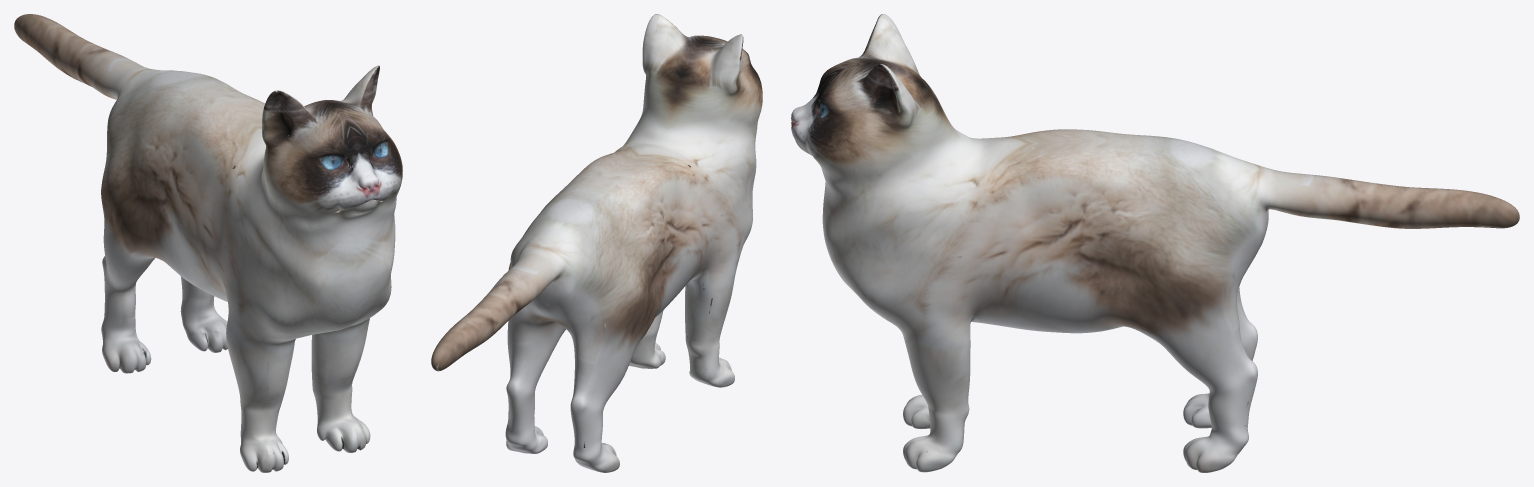
The model's file is Birman.glb.
3 views of the same model, side by side, from view 1: azimuth 30°, elevation 25°; view 2: azimuth 150°, elevation 25°; view 3: azimuth 270°, elevation 25° (orthographic). The views are drawn at different scales.
Parts seen in each view (by area): view 1: Cat_Base_1.002; view 2: Cat_Base_1.002; view 3: Cat_Base_1.002.
Part boxes in pixels (x1=…): Cat_Base_1.002: x1=14, y1=14, x2=402, y2=472; Cat_Base_1.002: x1=431, y1=14, x2=762, y2=472; Cat_Base_1.002: x1=791, y1=14, x2=1519, y2=472.
Bounding box in the file's own units: 1.54 × 3.78 × 6.17.
Materials: 1 (1 with a texture image).
